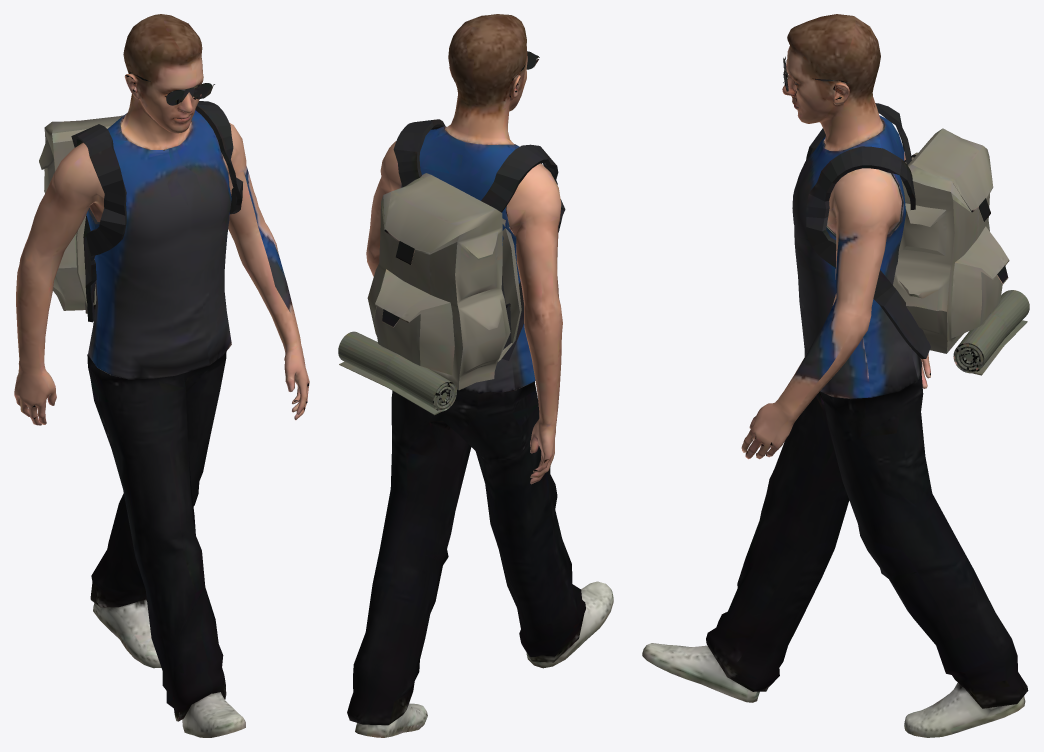
3 renders of one model, left to right at view 1: azimuth 30°, elevation 25°; view 2: azimuth 150°, elevation 25°; view 3: azimuth 270°, elevation 25°, orthographic.
Parts seen in each view (by area): view 1: p04433; view 2: p04433; view 3: p04433.
Part boxes in pixels (left/top/right/bottom): p04433: left=14, top=14, right=309, bottom=737; p04433: left=338, top=14, right=613, bottom=737; p04433: left=642, top=14, right=1029, bottom=737.
Size of the model in its own units: 0.6229 by 1.81 by 0.9182.
Materials: 1 (1 with a texture image).
